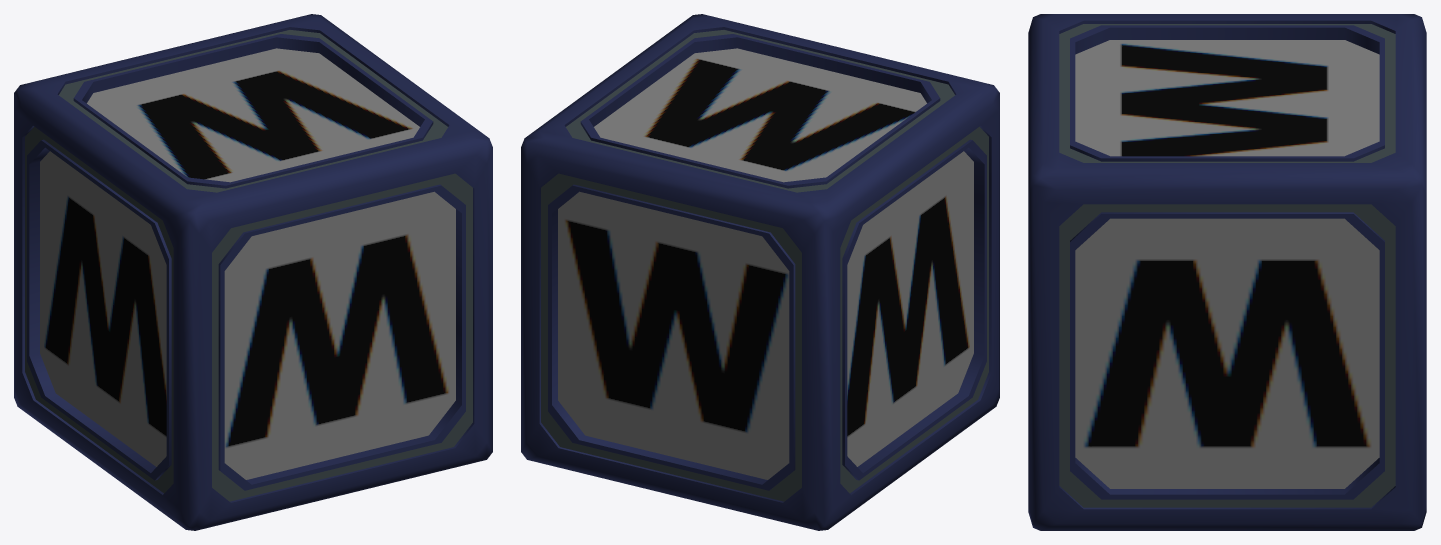
Rendered from fant_wasd_converter_off.obj.
3 views of the same model, side by side, from view 1: azimuth 30°, elevation 25°; view 2: azimuth 150°, elevation 25°; view 3: azimuth 270°, elevation 25° (orthographic). The views are drawn at different scales.
Parts seen in each view (by area): view 1: fant_wasd_converter_off; view 2: fant_wasd_converter_off; view 3: fant_wasd_converter_off.
Boxes of the visible parts, <box> form: fant_wasd_converter_off: <box>14,14,492,530</box>; fant_wasd_converter_off: <box>521,14,999,530</box>; fant_wasd_converter_off: <box>1028,14,1426,530</box>.
Size of the model in its own units: 1 by 1 by 1.
